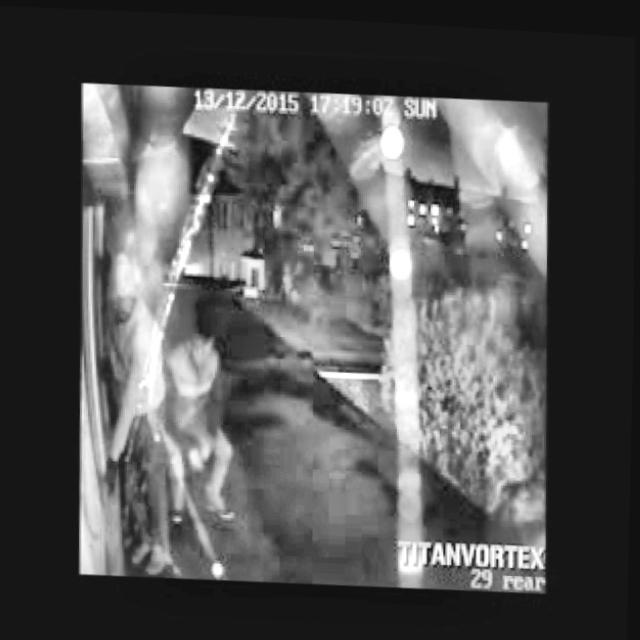burglary: (77, 244, 243, 579)
